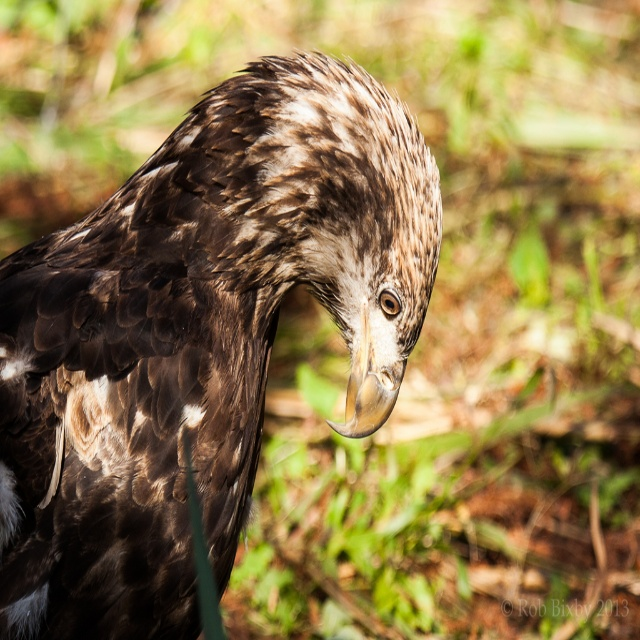Eagle: (0, 42, 445, 636)
